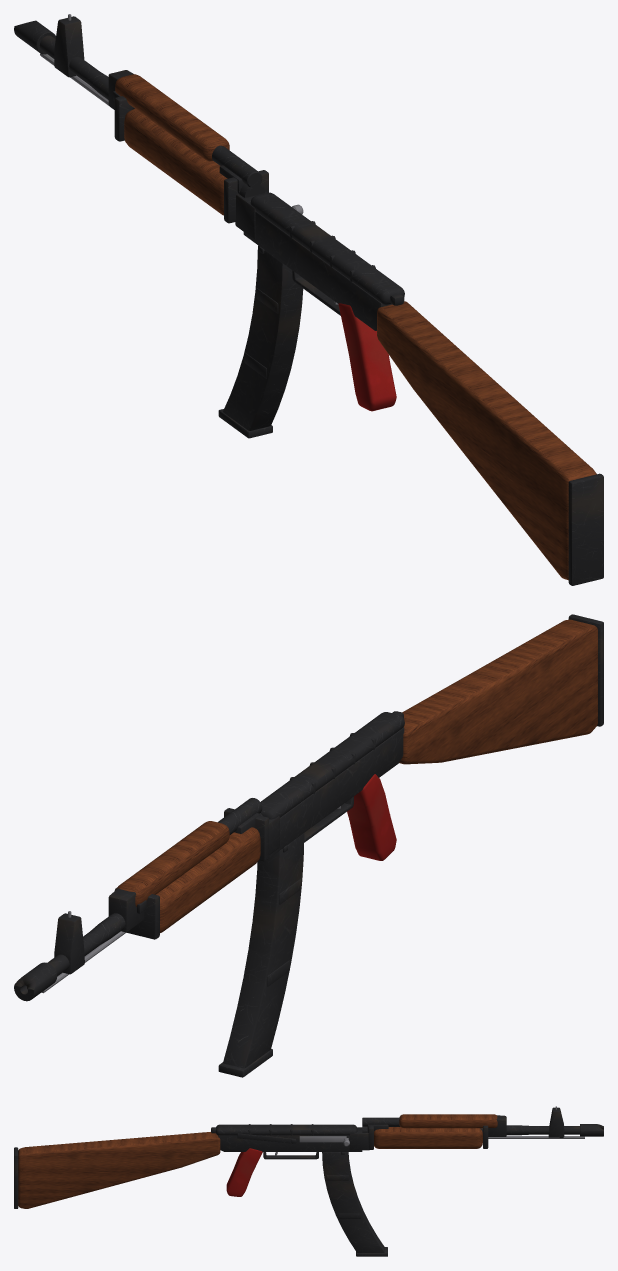
3 views of the same model, one above another, from view 1: azimuth 30°, elevation 25°; view 2: azimuth 150°, elevation 25°; view 3: azimuth 270°, elevation 25° (orthographic). The views are drawn at different scales.
Visible parts, largest first — view 1: AK47_Body, AK47_Magazine, AK47_DustCover; view 2: AK47_Body, AK47_Magazine, AK47_DustCover; view 3: AK47_Body, AK47_Magazine, AK47_DustCover, AK47_BoltCarrier, AK47_Selector.
Boxes of the visible parts, x1=… form: AK47_Body: x1=14, y1=14, x2=603, y2=585; AK47_Magazine: x1=218, y1=245, x2=303, y2=438; AK47_DustCover: x1=250, y1=192, x2=404, y2=305; AK47_Body: x1=14, y1=614, x2=603, y2=1001; AK47_Magazine: x1=218, y1=833, x2=304, y2=1077; AK47_DustCover: x1=260, y1=711, x2=404, y2=819; AK47_Body: x1=14, y1=1106, x2=603, y2=1208; AK47_Magazine: x1=322, y1=1152, x2=387, y2=1256; AK47_DustCover: x1=211, y1=1124, x2=357, y2=1135; AK47_BoltCarrier: x1=299, y1=1136, x2=349, y2=1146; AK47_Selector: x1=237, y1=1133, x2=296, y2=1143.
Bounding box in the file's own units: 0.06 × 0.31 × 1.13.
5 materials, 5 textured.
